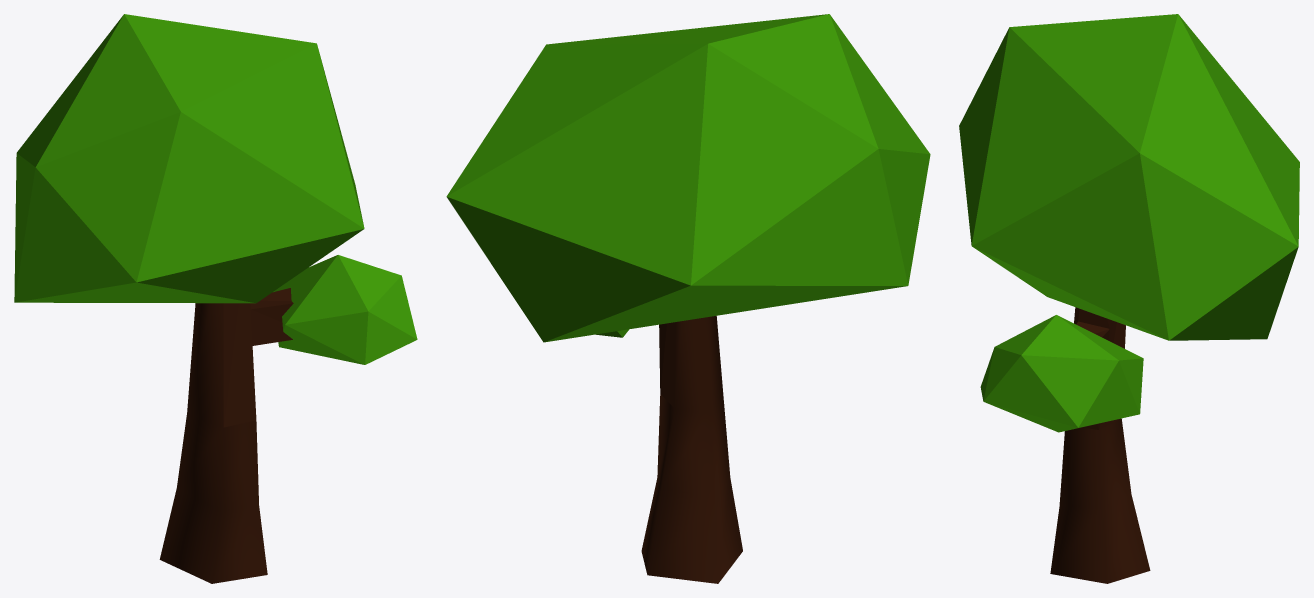
Rendered from Tree 5.FBX.
3 renders of one model, left to right at view 1: azimuth 30°, elevation 25°; view 2: azimuth 150°, elevation 25°; view 3: azimuth 270°, elevation 25°, orthographic. The views are drawn at different scales.
Parts seen in each view (by area): view 1: Tree round12, Treetrunk12, Tree round013; view 2: Tree round12, Treetrunk12; view 3: Tree round12, Tree round013, Treetrunk12.
Part boxes in pixels (x1,y1,x2,y2): Tree round12: (14, 14, 364, 303); Treetrunk12: (159, 288, 293, 583); Tree round013: (273, 255, 417, 364); Tree round12: (446, 14, 930, 342); Treetrunk12: (641, 316, 742, 583); Tree round12: (959, 14, 1299, 340); Tree round013: (980, 315, 1143, 432); Treetrunk12: (1050, 307, 1150, 583).
Size of the model in its own units: 34.78 by 47.01 by 27.8.
